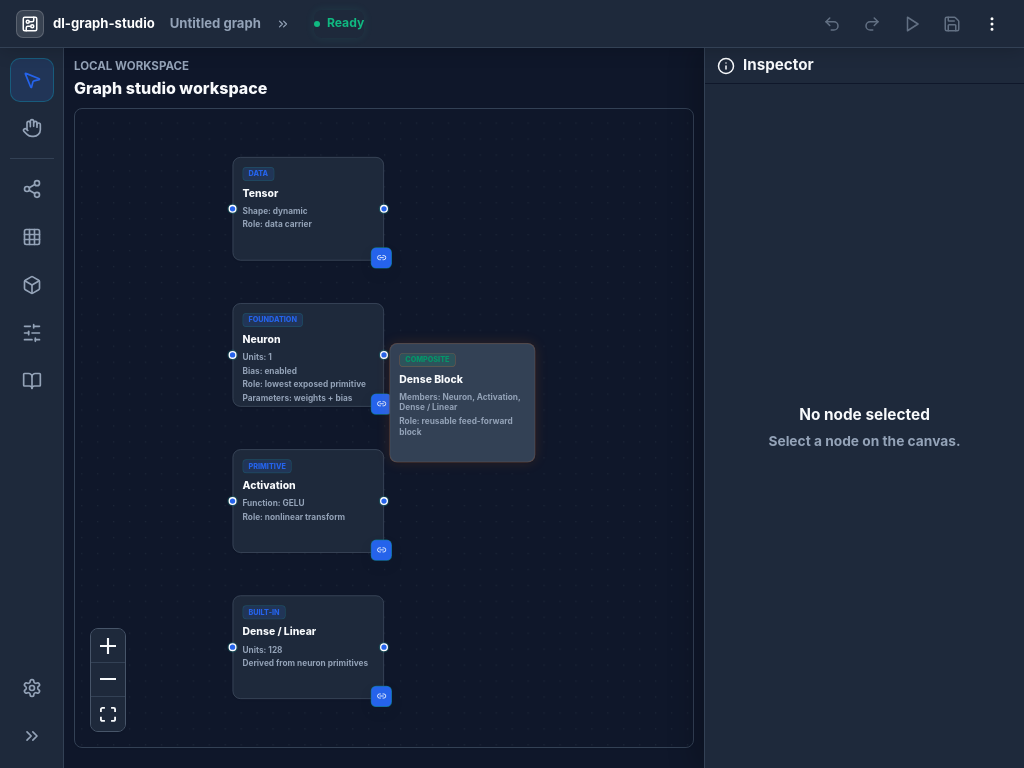
Scenario: App shell › renders project feedback through the editor toast surface
The image size is (1024, 768).
Click the button named "project actions" at (992, 24), box [976, 8, 1008, 40]
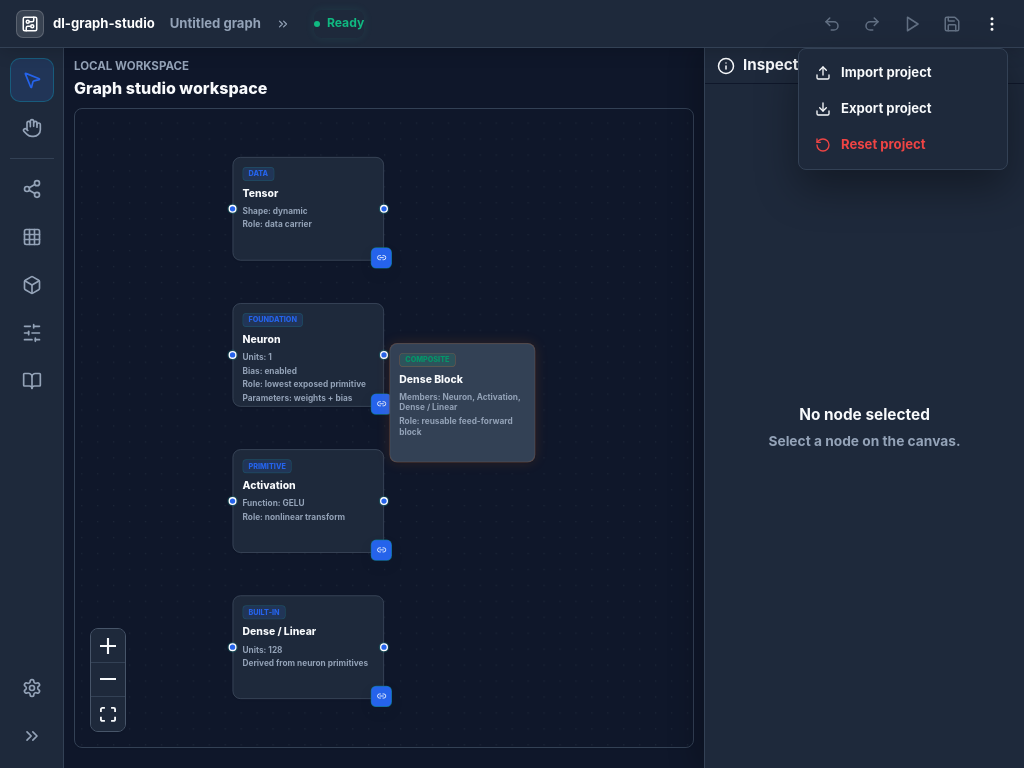
Click the menu item "Export project" at (873, 109), box [815, 100, 932, 117]
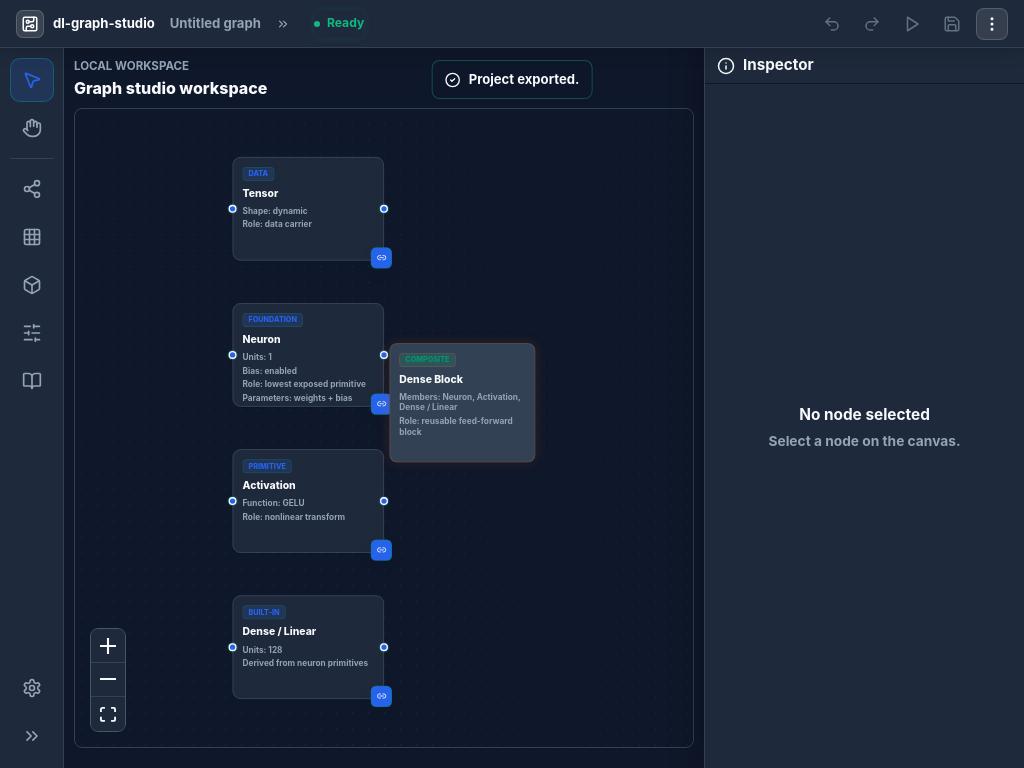
Now the message reads "Project exported.", box [469, 71, 579, 87]
